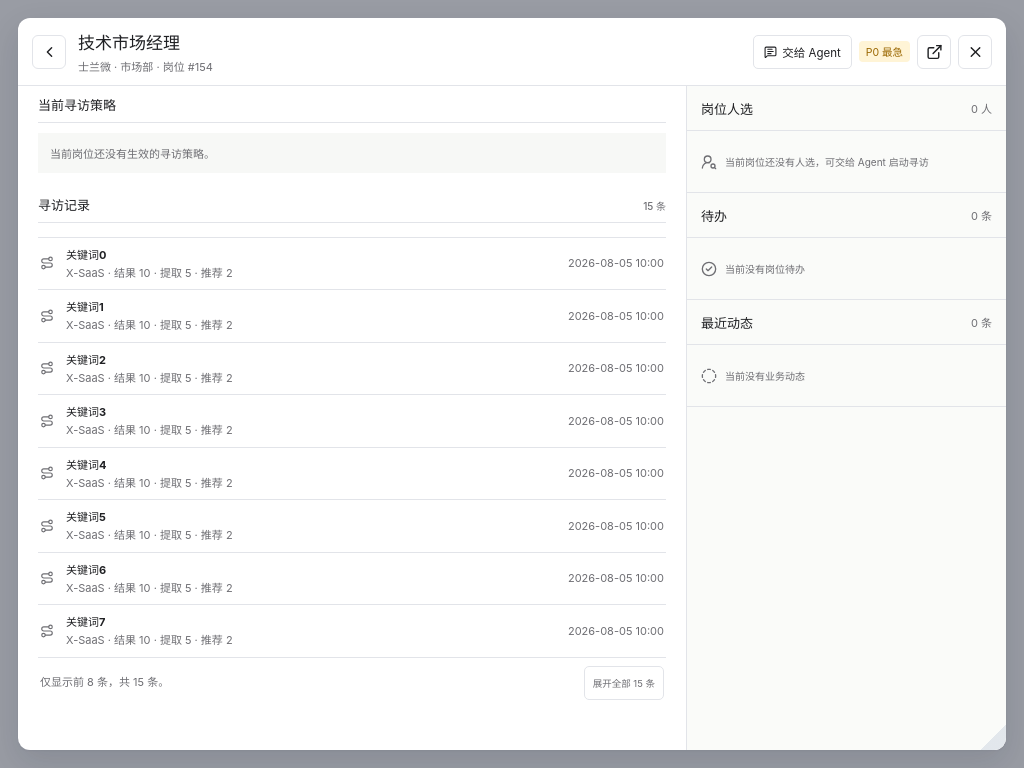
JobPanel 岗位详情 › 寻访记录默认截断前 8 条并说明数量，可展开全部再收起
This screenshot has width=1024, height=768.
(page scrolled)
Expected: the text "仅显示前 8 条，共 15 条。" is shown, [40,674,169,691]
Click the button "展开全部 15 条": (624, 682) [584,666,664,700]
(page scrolled)
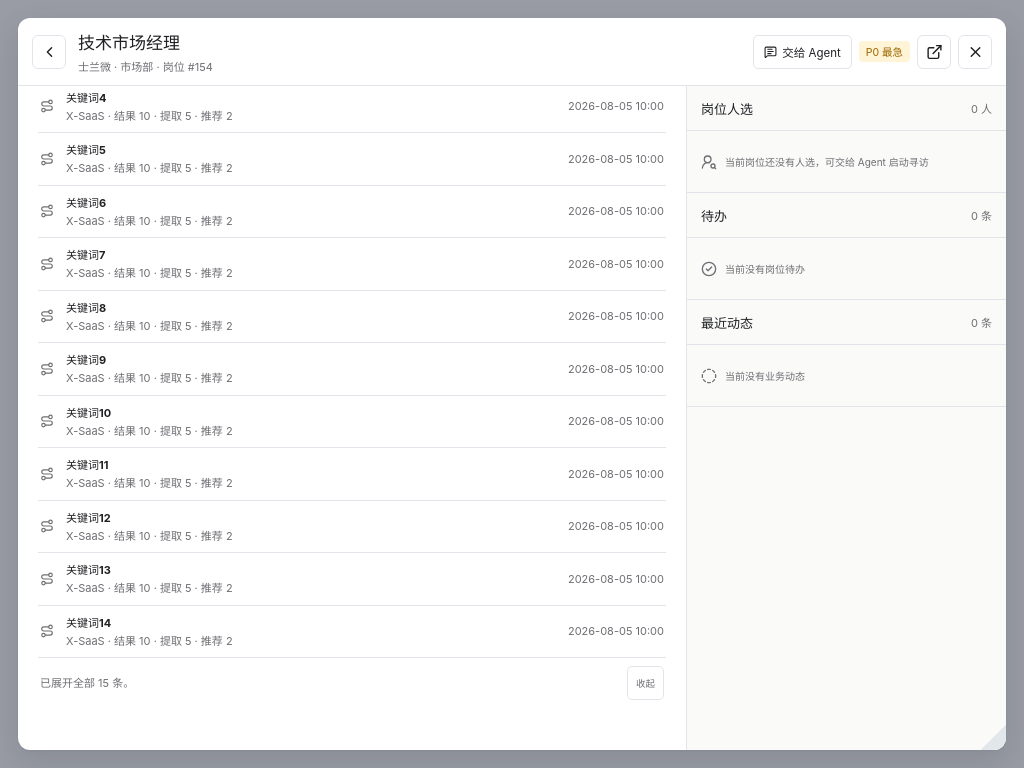
Expected: the text "已展开全部 15 条。" is shown, [40,675,134,691]
Click the button "收起": (646, 683) [627,666,664,700]
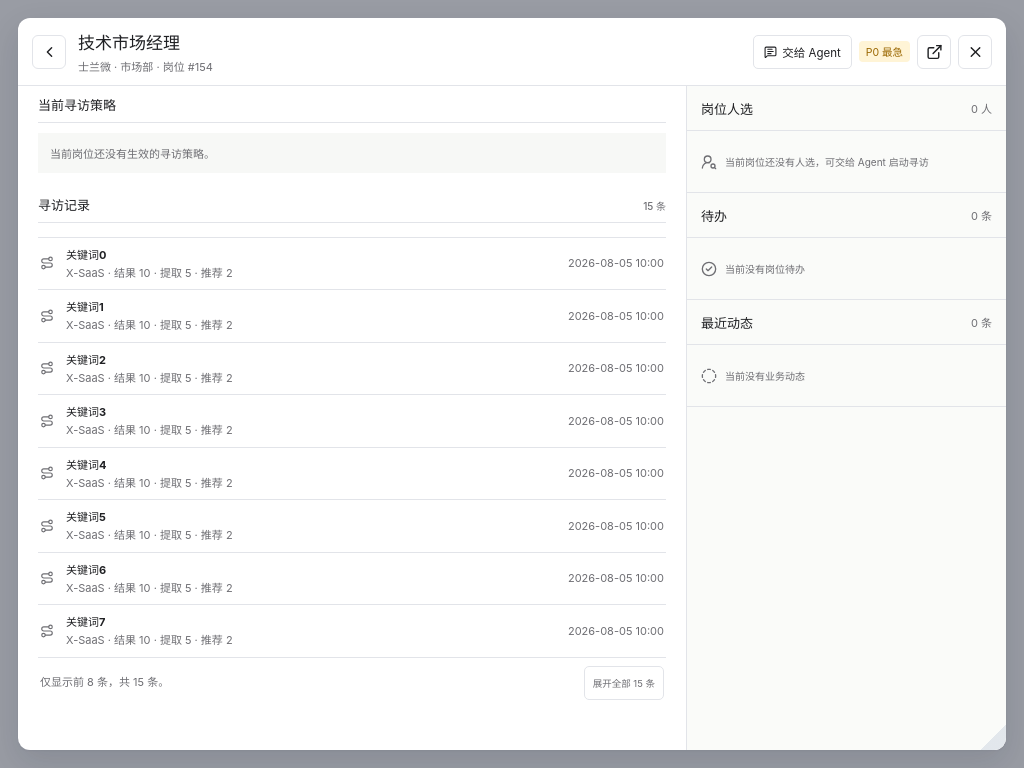
Expected: the text "关键词0" is shown 8 times
